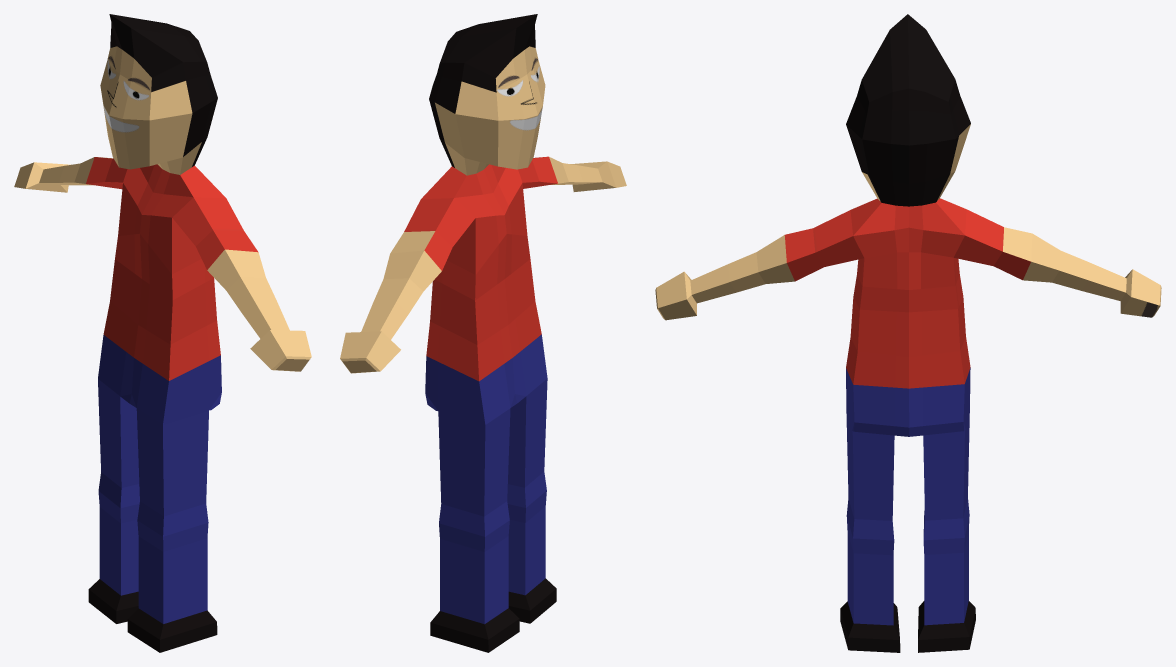
The model's file is NPC2Atlas.fbx.
3 views of the same model, side by side, from view 1: azimuth 30°, elevation 25°; view 2: azimuth 150°, elevation 25°; view 3: azimuth 270°, elevation 25° (orthographic). The views are drawn at different scales.
Visible parts, largest first — view 1: npc.001; view 2: npc.001; view 3: npc.001.
Part boxes in pixels (x1,y1,x2,y2): npc.001: (14, 14, 311, 652); npc.001: (340, 14, 626, 652); npc.001: (655, 14, 1161, 652).
Bounding box in the file's own units: 137 × 813 × 622.
